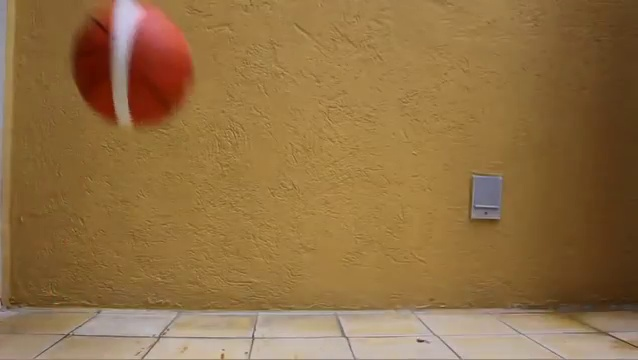ball: (71, 3, 194, 133)
